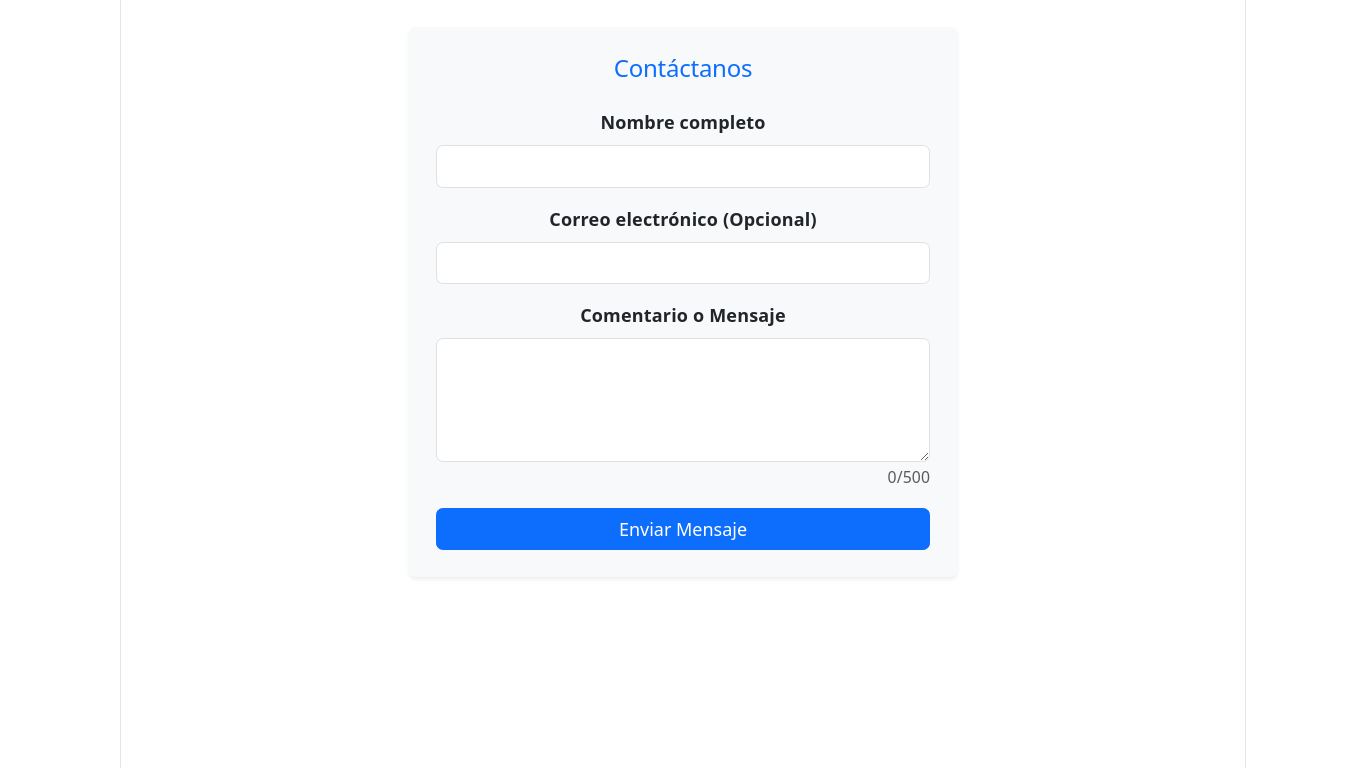
PRUEBA 13 (Validaciones): debe mostrar mensaje de error si se envía el formulario vacío
Click the button "Enviar Mensaje": (683, 529) [436,508,930,550]
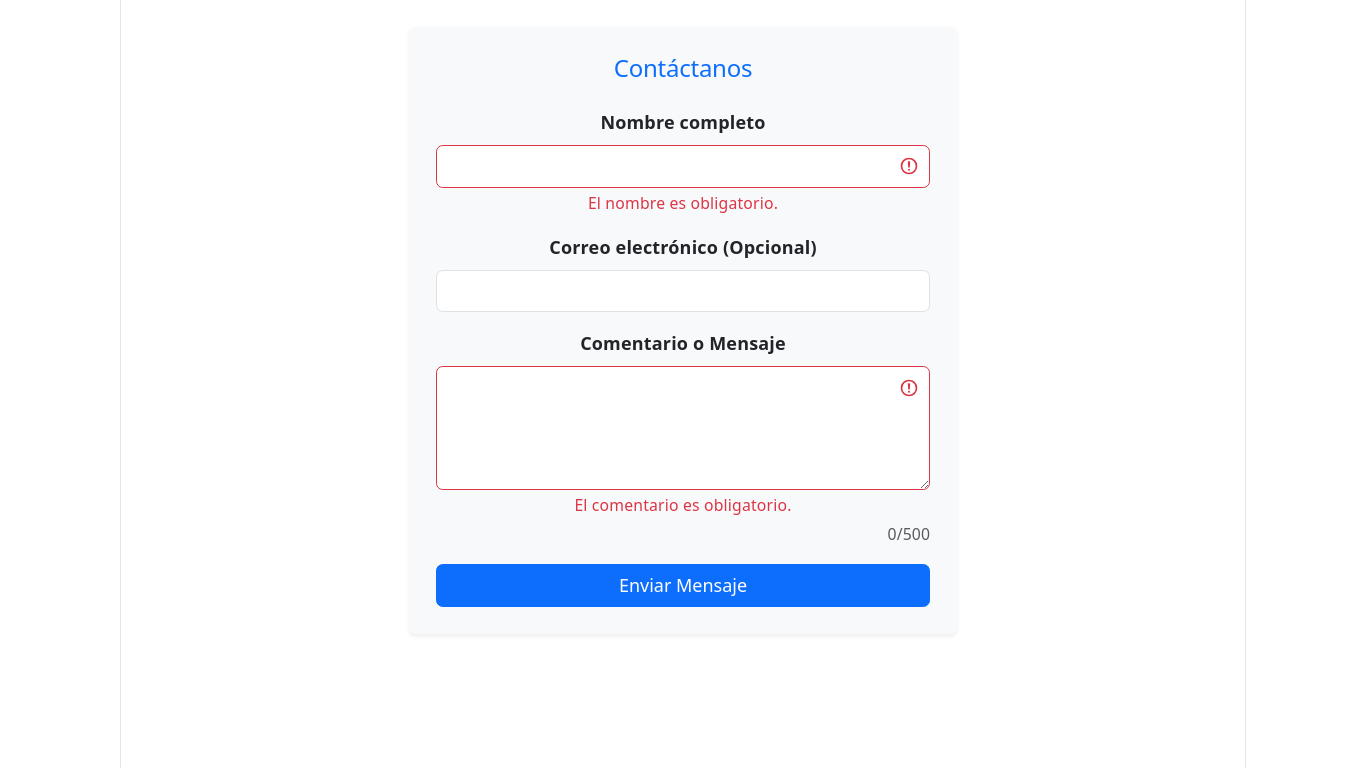
Expected: the text "El nombre es obligatorio." is shown, [588,192,778,214]
